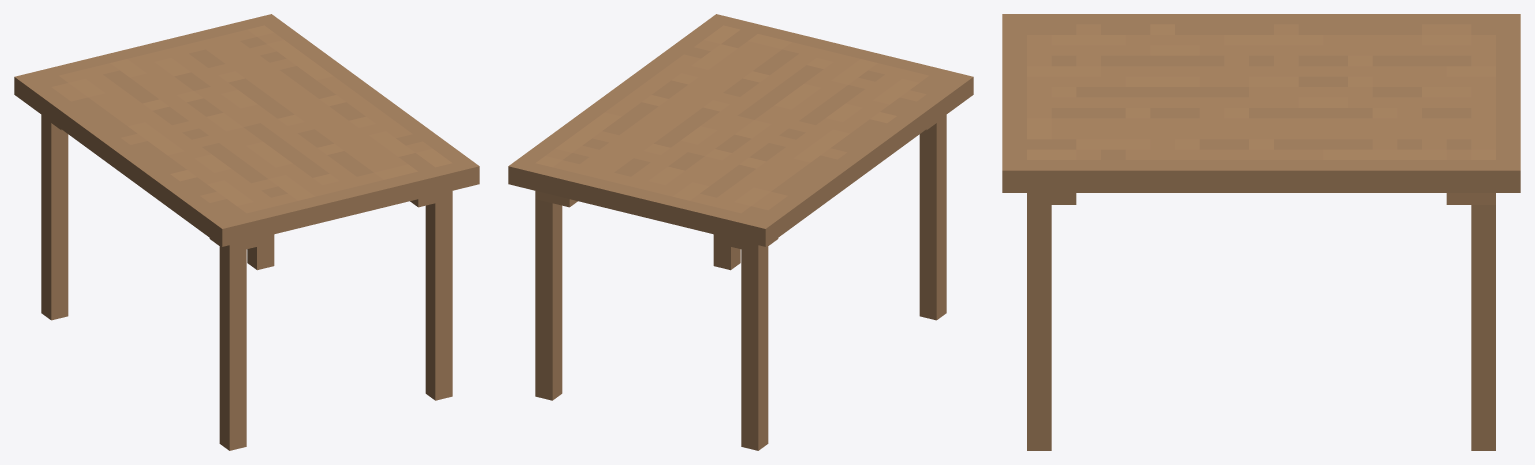
File: table_1.obj
3 views of the same model, side by side, from view 1: azimuth 30°, elevation 25°; view 2: azimuth 150°, elevation 25°; view 3: azimuth 270°, elevation 25° (orthographic). The views are drawn at different scales.
Size of the model in its own units: 1.5 by 1.3 by 2.1.
1 material, 1 textured.
